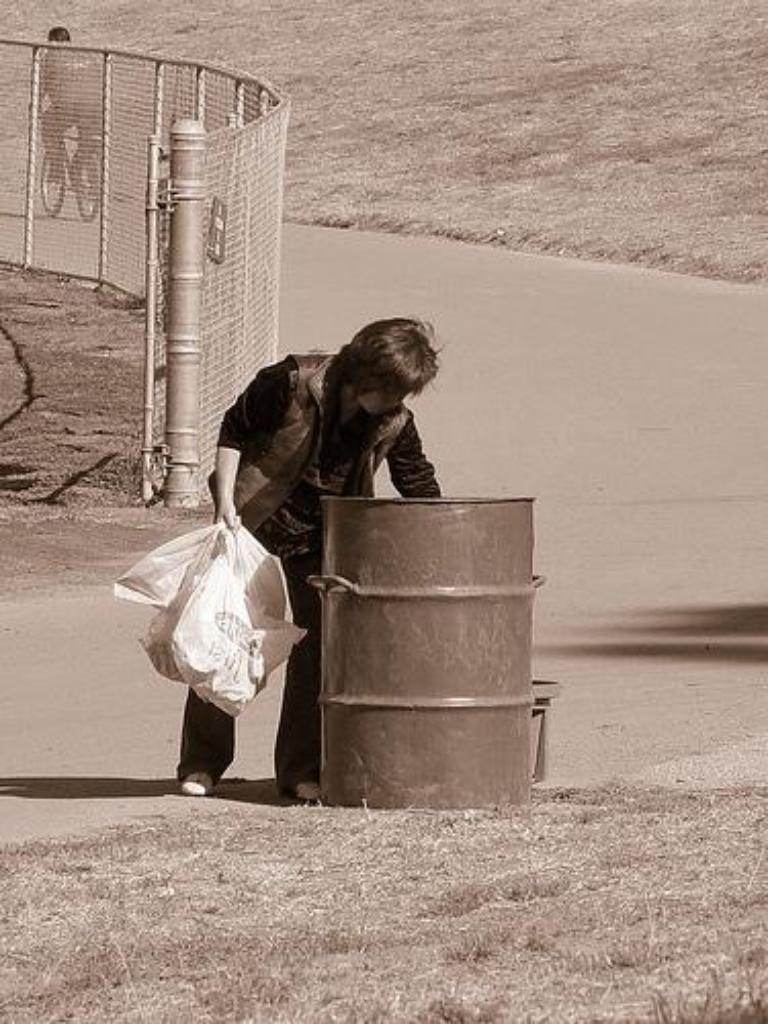dustbin: (319, 488, 550, 818)
